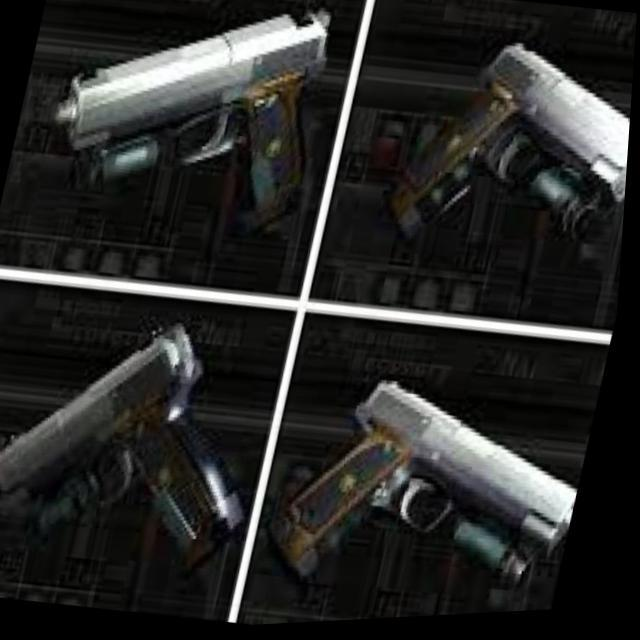weapon: (6, 0, 358, 272), (258, 359, 606, 625), (0, 292, 295, 590), (378, 25, 638, 280)
